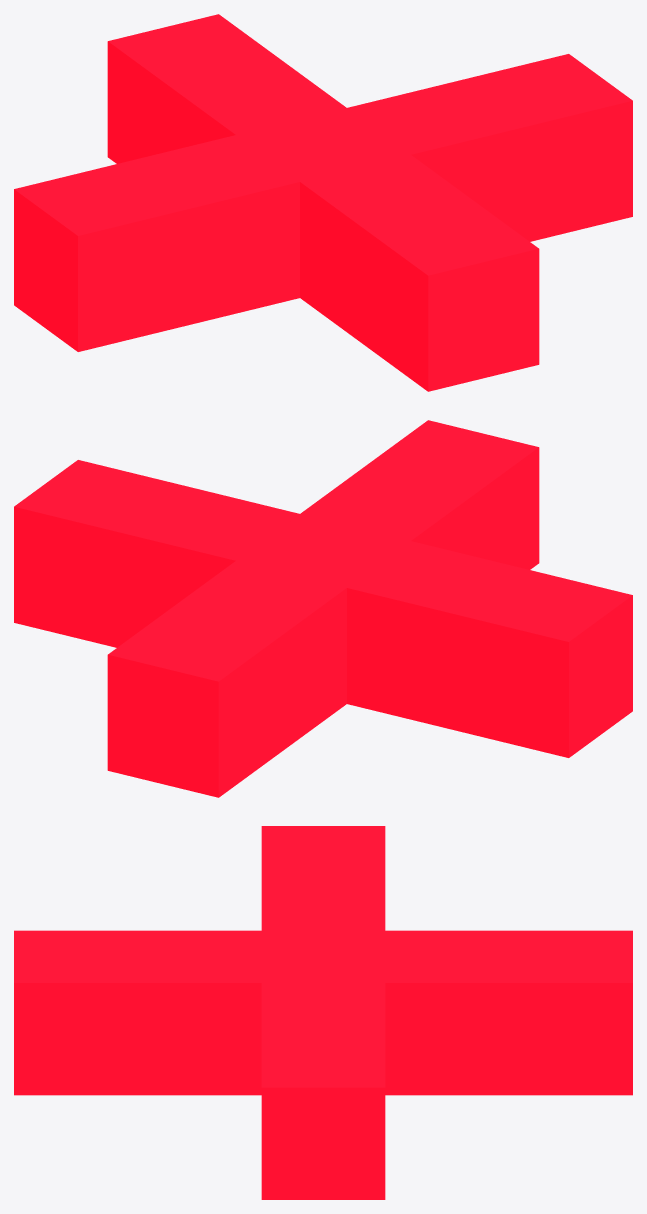
The model's file is wire_X.fbx.
The picture shows the model from 3 angles, top to bottom: view 1: azimuth 30°, elevation 25°; view 2: azimuth 150°, elevation 25°; view 3: azimuth 270°, elevation 25°; orthographic projection. The views are drawn at different scales.
Parts seen in each view (by area): view 1: Cube.013, Cube.022, Cube.021; view 2: Cube.013, Cube.022, Cube.021; view 3: Cube.013, Cube.021, Cube.022.
Part boxes in pixels (x1=…): Cube.013: x1=107, y1=14, x2=539, y2=391; Cube.022: x1=14, y1=135, x2=299, y2=351; Cube.021: x1=347, y1=54, x2=632, y2=241; Cube.013: x1=107, y1=420, x2=539, y2=797; Cube.022: x1=347, y1=541, x2=632, y2=757; Cube.021: x1=14, y1=460, x2=299, y2=647; Cube.013: x1=14, y1=930, x2=632, y2=1095; Cube.021: x1=261, y1=983, x2=385, y2=1199; Cube.022: x1=261, y1=826, x2=385, y2=930.
Bounding box in the file's own units: 1 × 0.2 × 1.
